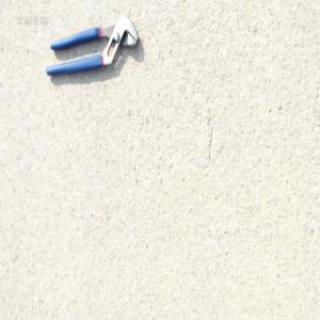Pliertrack_idkeyframe: (44, 15, 138, 77)
